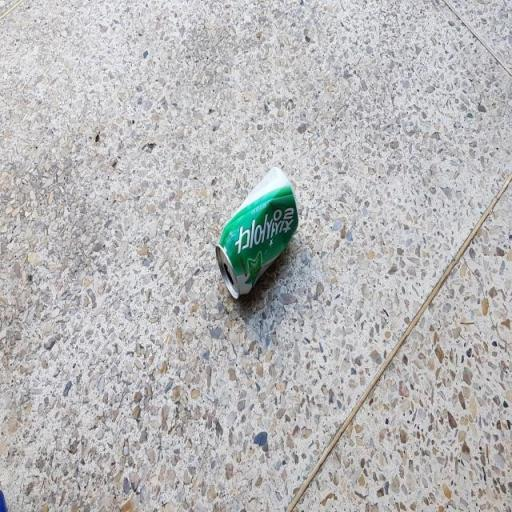metal: (210, 152, 304, 314)
